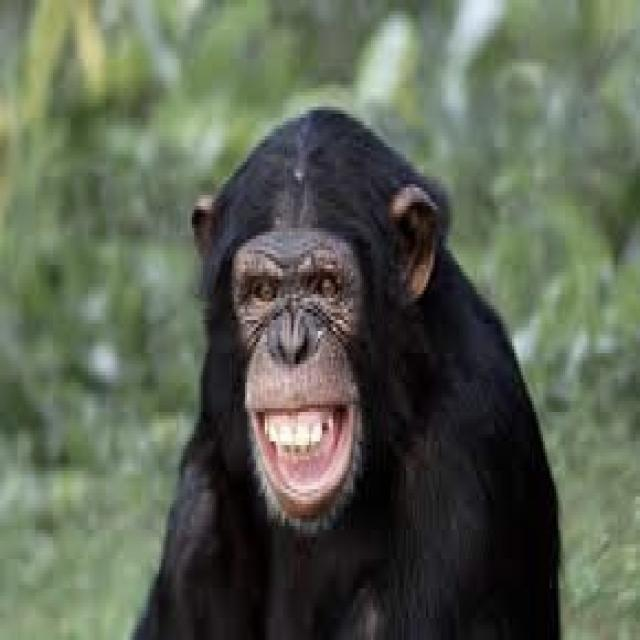chimpanzee: (132, 107, 556, 636)
